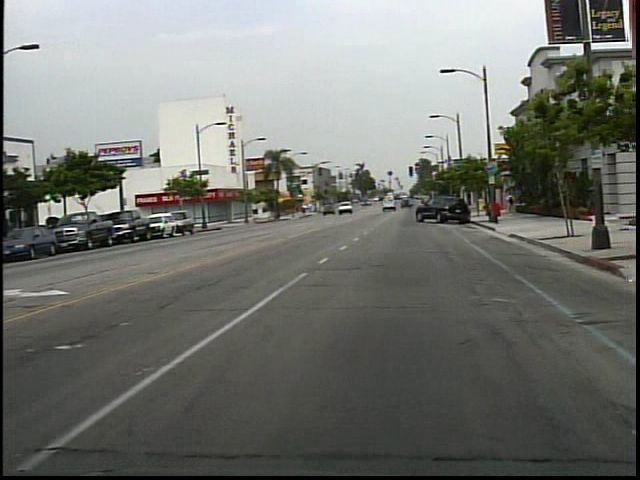person: (508, 189, 523, 219)
